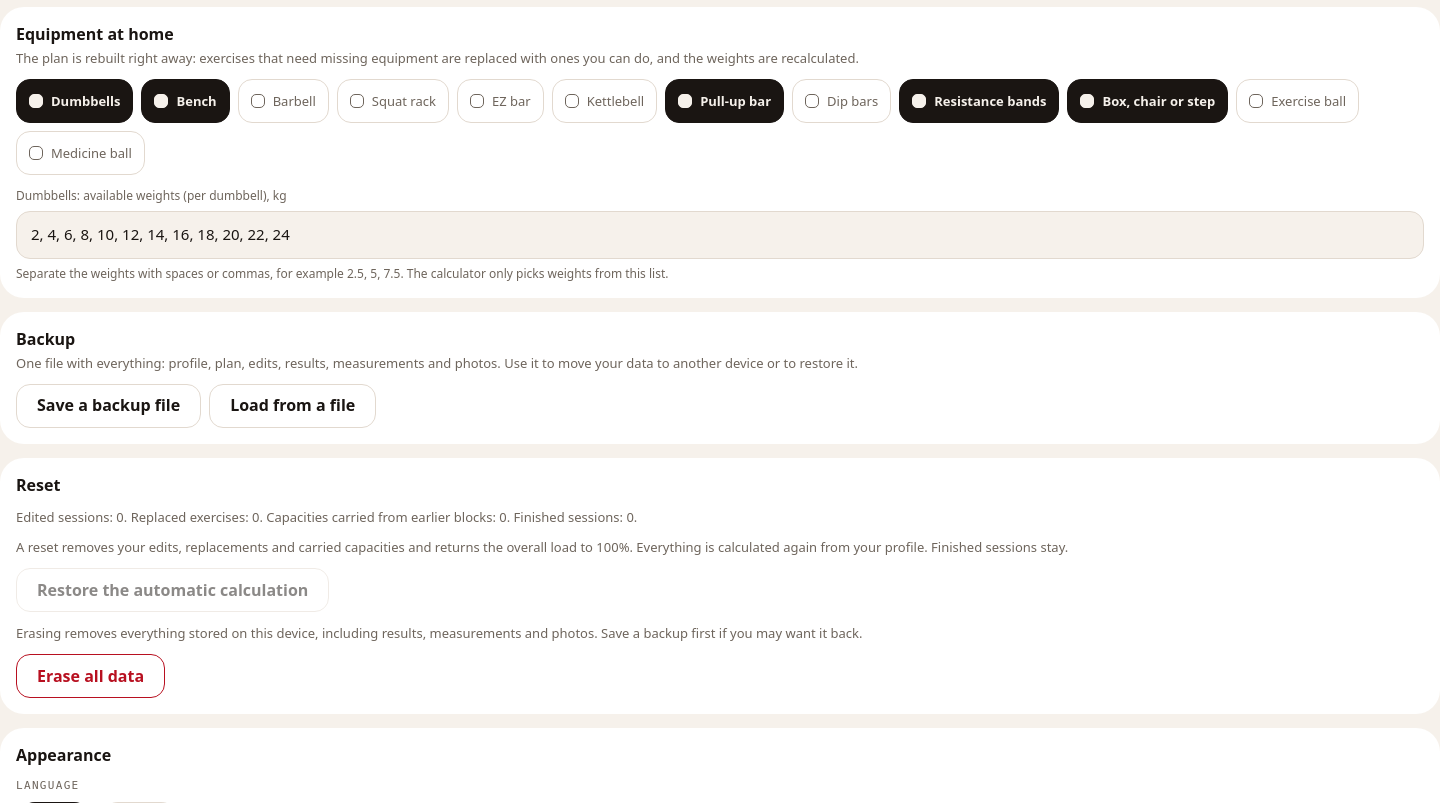
Test: SettingsScreen: backup › saves a backup file named after today
(page scrolled)
Step 1. Click the button "Save a backup file" → x=109, y=406, box [16,384,201,428]
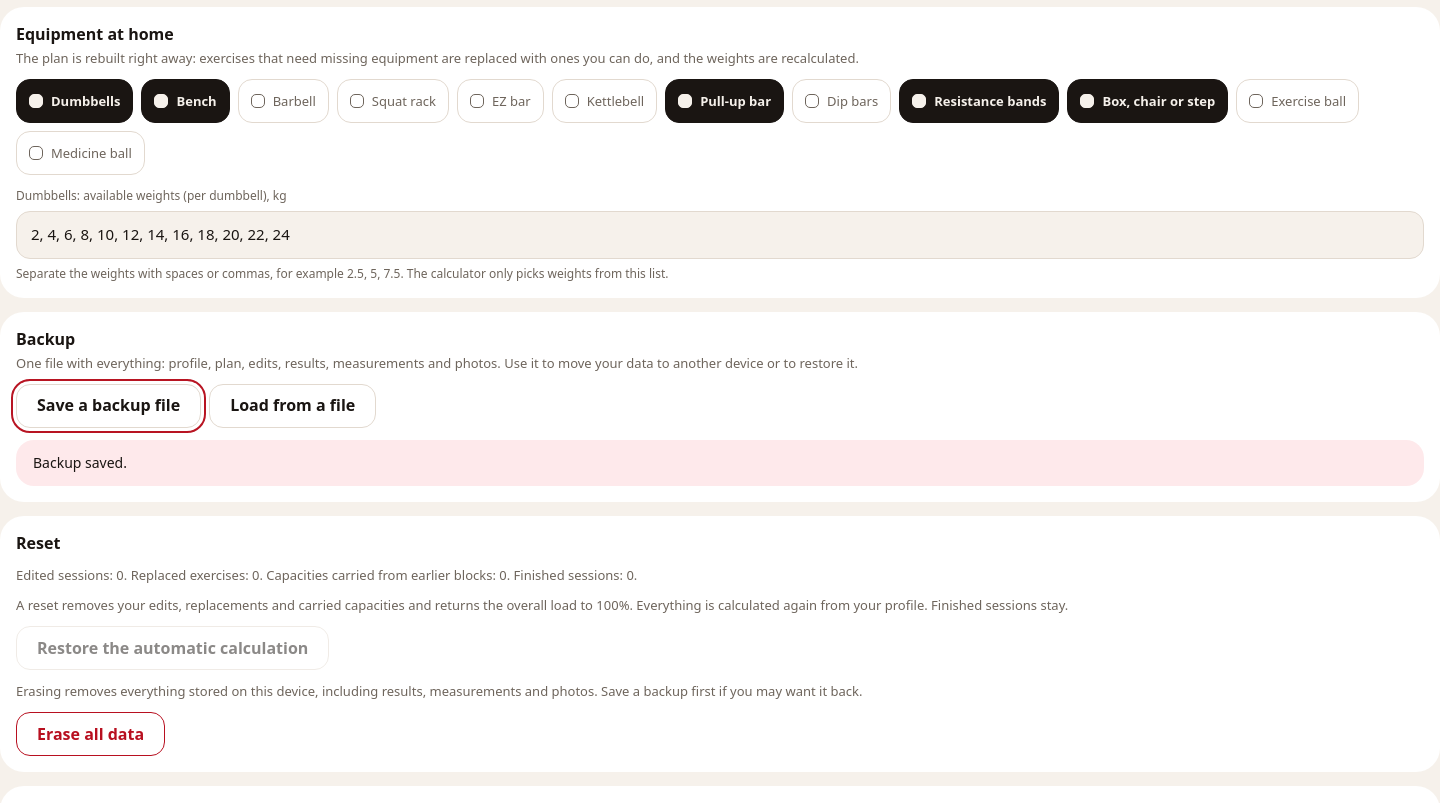
expect the text "Backup saved." is shown: met, box [33,453,127,472]
